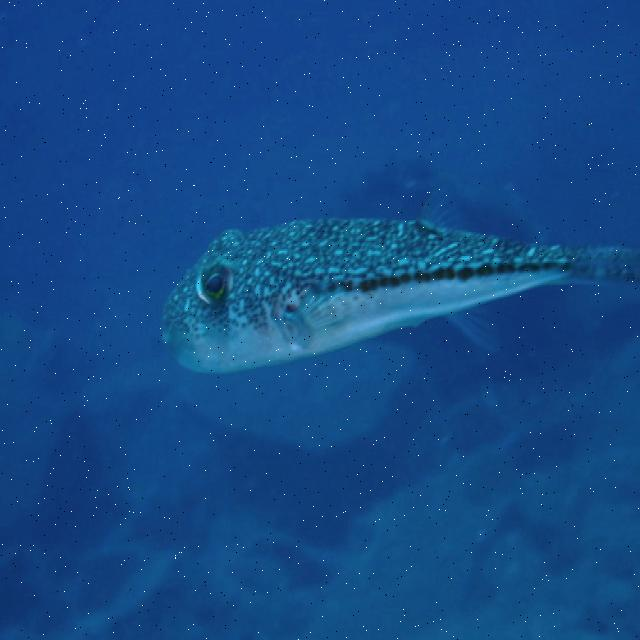Balik: (164, 219, 639, 372)
